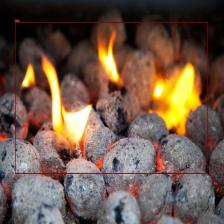fire: (15, 22, 208, 174)
